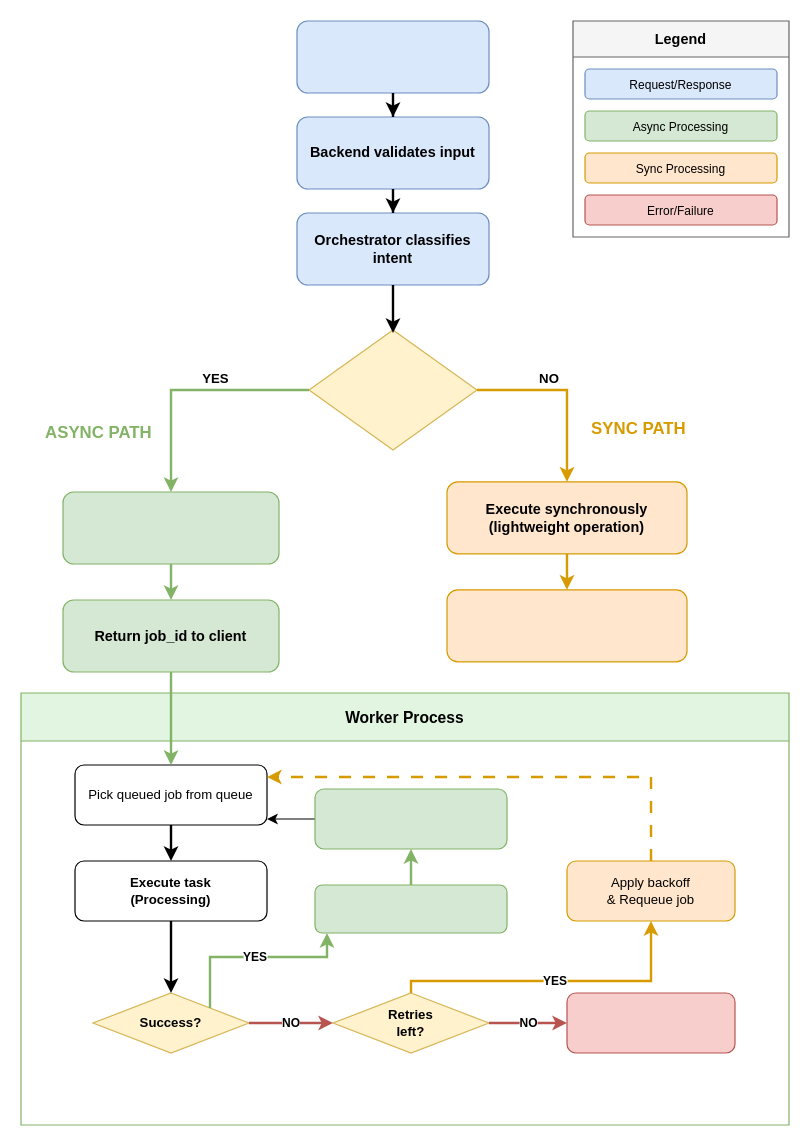
Image size: 810x1146. Some labels were removed from this diagram. The centre of each missing label's shape, as x and y in pixels:
"Client sends request" belongs at [392,56].
"Create job record (Status: Queued)" belongs at [170,527].
"Heavy operation?" belongs at [392,389].
"Mark job Completed" belongs at [410,818].
"Mark job Failed" belongs at [650,1022].
"Return response immediately" belongs at [566,625].
"Store result in DB" belongs at [410,908].
